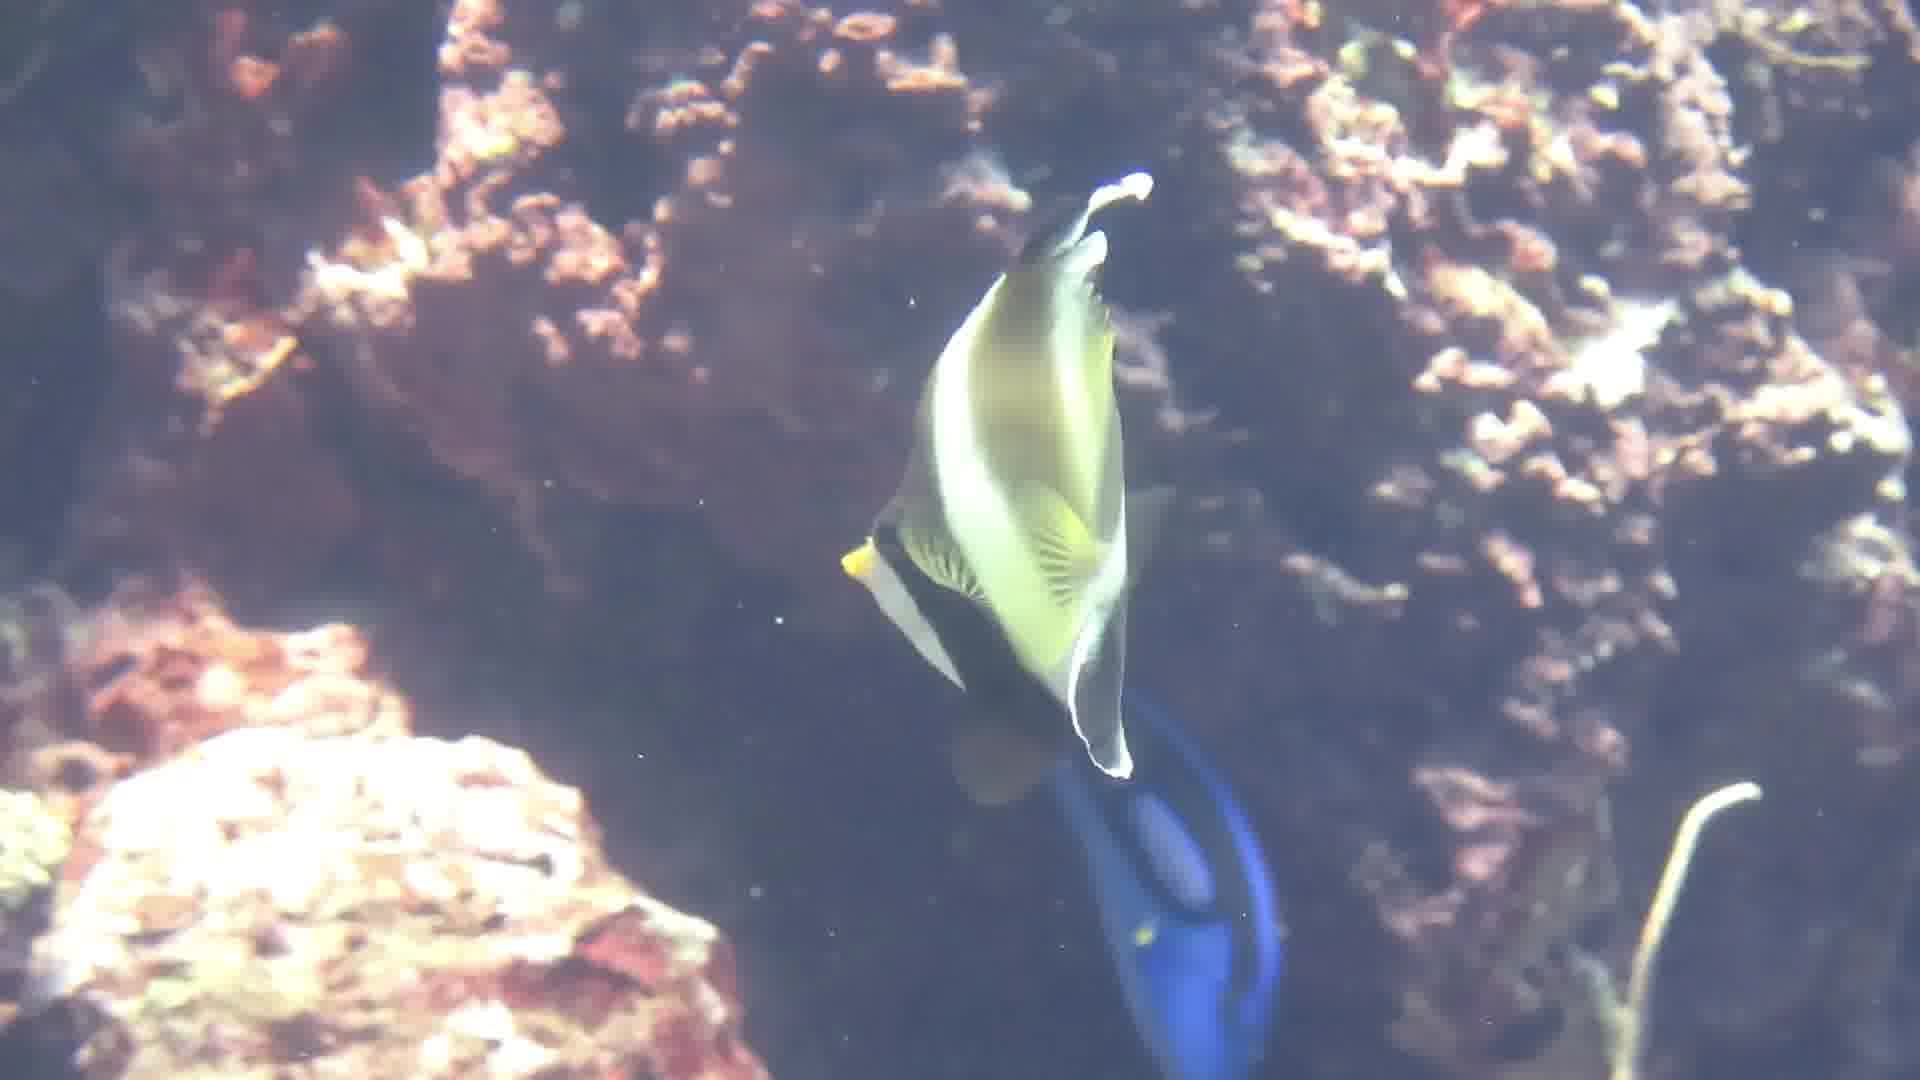Heniochus chrysostomus: (825, 145, 1226, 800)
